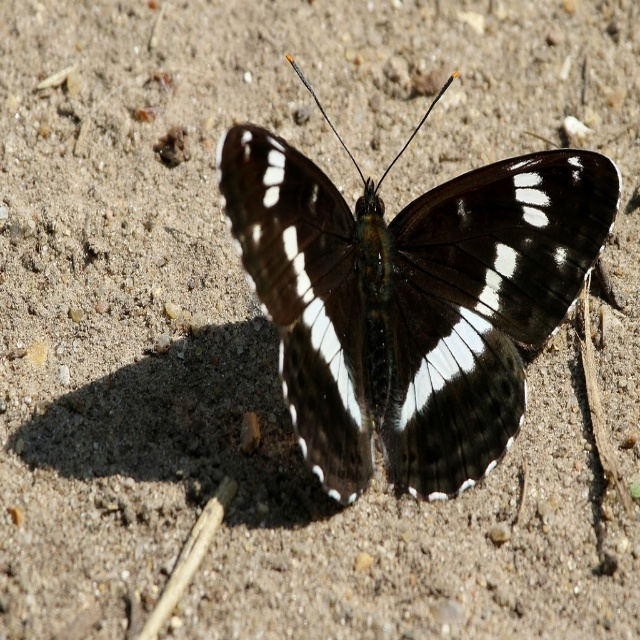Butterfly: (215, 52, 612, 516)
